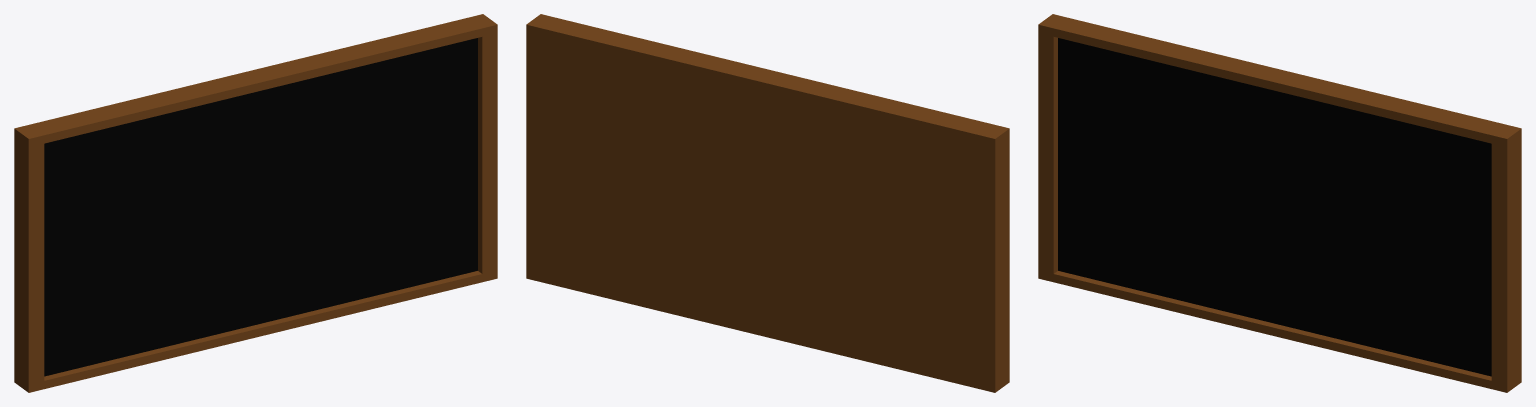
The model's file is BlackBoard.fbx.
3 renders of one model, left to right at view 1: azimuth 30°, elevation 25°; view 2: azimuth 150°, elevation 25°; view 3: azimuth 330°, elevation 25°, orthographic.
Visible parts, largest first — view 1: Blackboard; view 2: Blackboard; view 3: Blackboard.
Part boxes in pixels (bbox=[...]): Blackboard: bbox=[14, 14, 497, 392]; Blackboard: bbox=[526, 14, 1009, 392]; Blackboard: bbox=[1038, 14, 1521, 392].
Bounding box in the file's own units: 386 × 200 × 20.76.
